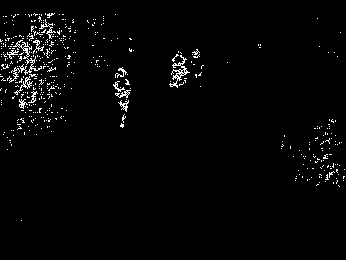person: (112, 66, 129, 129), (191, 47, 205, 82)
